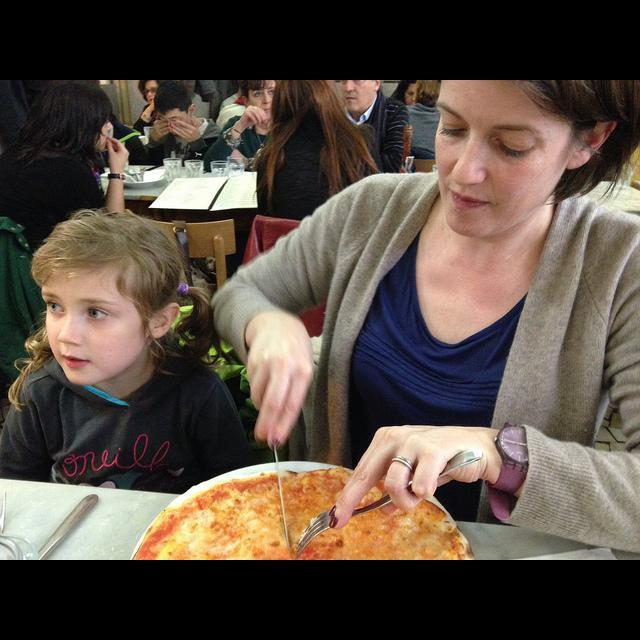chair: (244, 218, 328, 336), (138, 214, 238, 294), (0, 214, 44, 383), (414, 158, 436, 172)
cup: (162, 158, 182, 182), (228, 156, 245, 180), (184, 159, 203, 177), (210, 160, 230, 176)
dining table: (3, 456, 640, 559), (119, 155, 263, 231), (584, 180, 640, 216)
fork: (295, 448, 485, 560)
knife: (274, 440, 290, 560)
person: (208, 80, 640, 556), (0, 208, 252, 490), (0, 80, 130, 254), (248, 82, 376, 218), (336, 80, 416, 172), (142, 82, 222, 168), (197, 80, 265, 174), (406, 82, 442, 166), (130, 80, 162, 136), (263, 80, 277, 110)
pizza: (137, 472, 475, 554)
